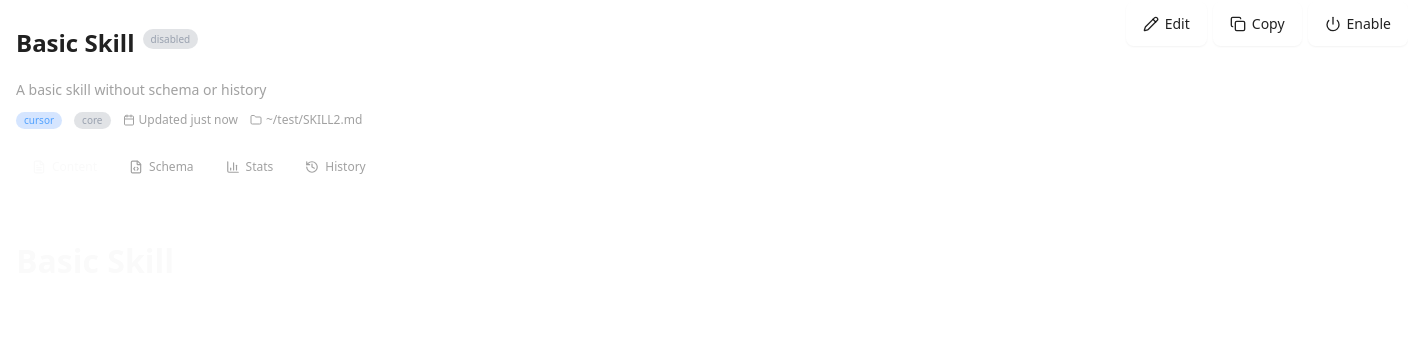
Test: SkillDetail › should show empty state on history tab when no history
Click the tab "History" at (336, 168), box left=289, top=146, right=382, bottom=190
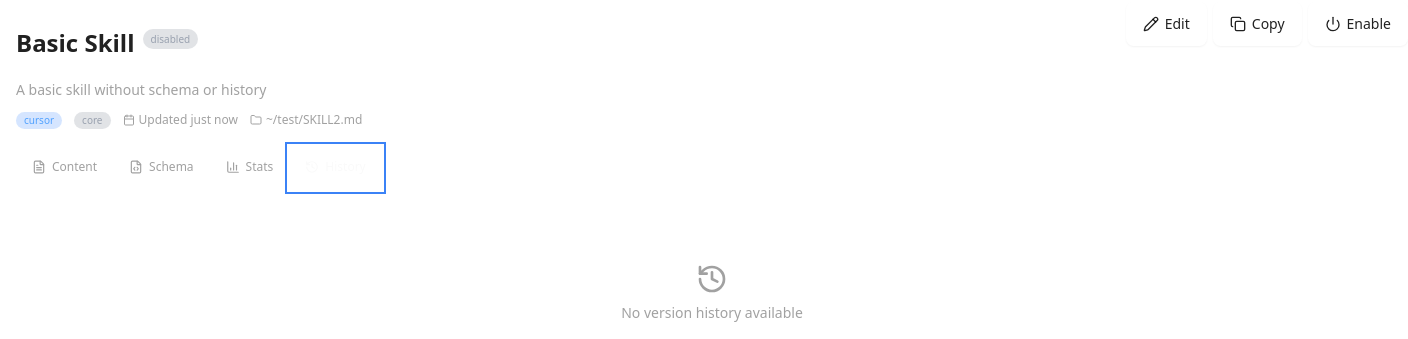
Expected: the text "No version history available" is shown, left=621, top=303, right=803, bottom=323
